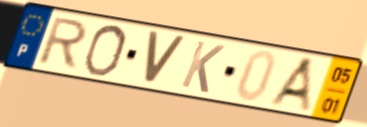0: (233, 49, 280, 105)
A: (266, 55, 318, 116)
K: (177, 38, 227, 96)
O: (81, 24, 130, 78)
R: (34, 15, 91, 71)
V: (142, 28, 188, 88)
